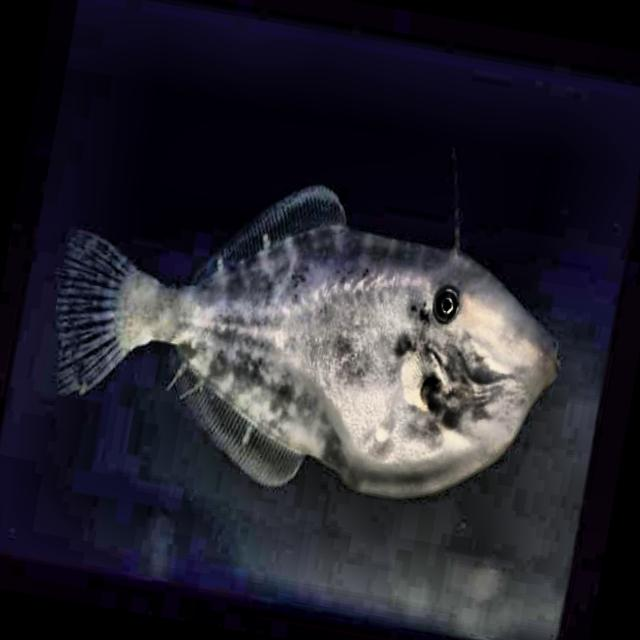fish: (33, 97, 591, 541)
